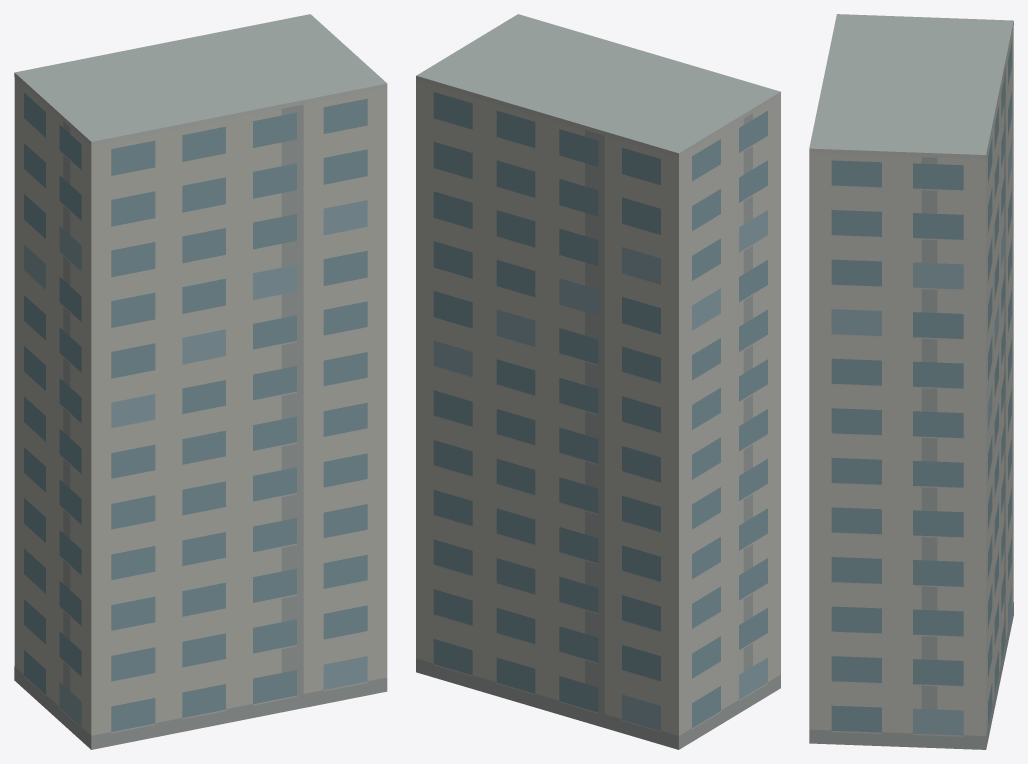
File: residential-c270caf3-aa2e-4fef-abaf-9124fc7df3f9.glb
3 renders of one model, left to right at view 1: azimuth 30°, elevation 25°; view 2: azimuth 150°, elevation 25°; view 3: azimuth 270°, elevation 25°, orthographic. The views are drawn at different scales.
Visible parts, largest first — view 1: residential-c270caf3-aa2e-4fef-abaf-9124fc7df3f9.tmp; view 2: residential-c270caf3-aa2e-4fef-abaf-9124fc7df3f9.tmp; view 3: residential-c270caf3-aa2e-4fef-abaf-9124fc7df3f9.tmp.
Boxes of the visible parts, left/top/right/bottom form: residential-c270caf3-aa2e-4fef-abaf-9124fc7df3f9.tmp: left=14, top=14, right=387, bottom=749; residential-c270caf3-aa2e-4fef-abaf-9124fc7df3f9.tmp: left=416, top=14, right=780, bottom=749; residential-c270caf3-aa2e-4fef-abaf-9124fc7df3f9.tmp: left=809, top=14, right=1013, bottom=749.
Bounding box in the file's own units: 16.79 × 33 × 10.3.
